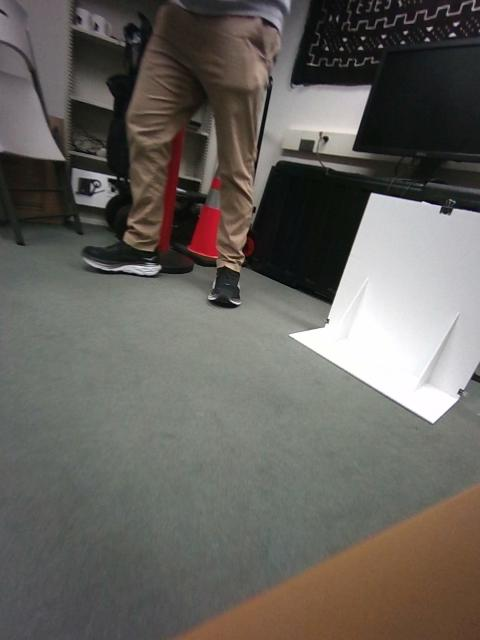block: (60, 301, 101, 386)
